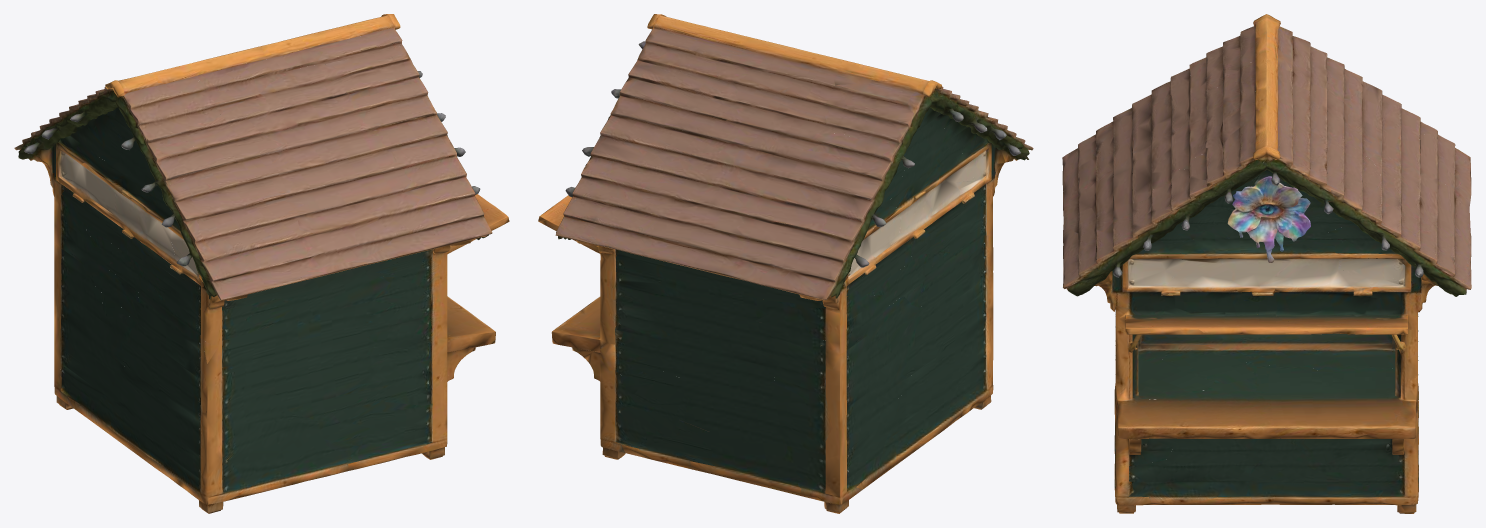
File: lt_chalet.glb
The picture shows the model from 3 angles, left to right: view 1: azimuth 30°, elevation 25°; view 2: azimuth 150°, elevation 25°; view 3: azimuth 270°, elevation 25°; orthographic projection.
Visible parts, largest first — view 1: tripo_node_14227aaa-5ed2-463c-bfa3-93db16ec2ff2; view 2: tripo_node_14227aaa-5ed2-463c-bfa3-93db16ec2ff2; view 3: tripo_node_14227aaa-5ed2-463c-bfa3-93db16ec2ff2.
Part boxes in pixels (x1,y1,x2,y2): tripo_node_14227aaa-5ed2-463c-bfa3-93db16ec2ff2: (14, 14, 509, 513); tripo_node_14227aaa-5ed2-463c-bfa3-93db16ec2ff2: (538, 14, 1033, 513); tripo_node_14227aaa-5ed2-463c-bfa3-93db16ec2ff2: (1062, 14, 1471, 513).
Bounding box in the file's own units: 0.9211 × 1 × 0.9813.
Materials: 1 (1 with a texture image).
